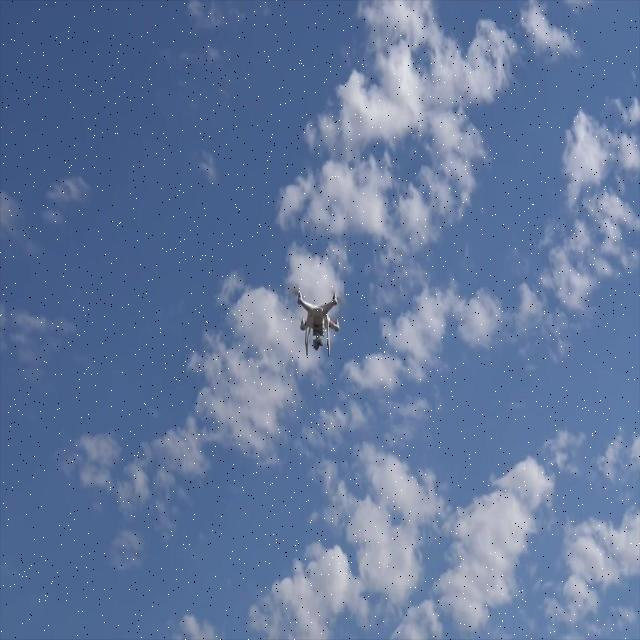UAV: (294, 292, 340, 356)
